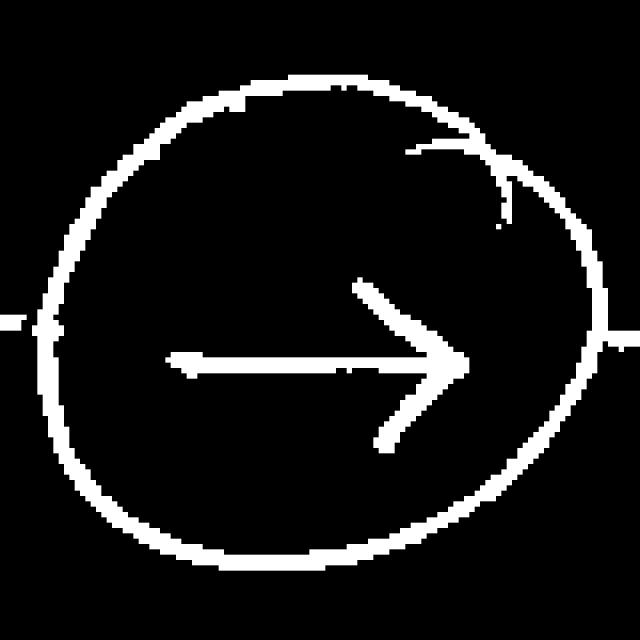current_source: (35, 65, 613, 583)
